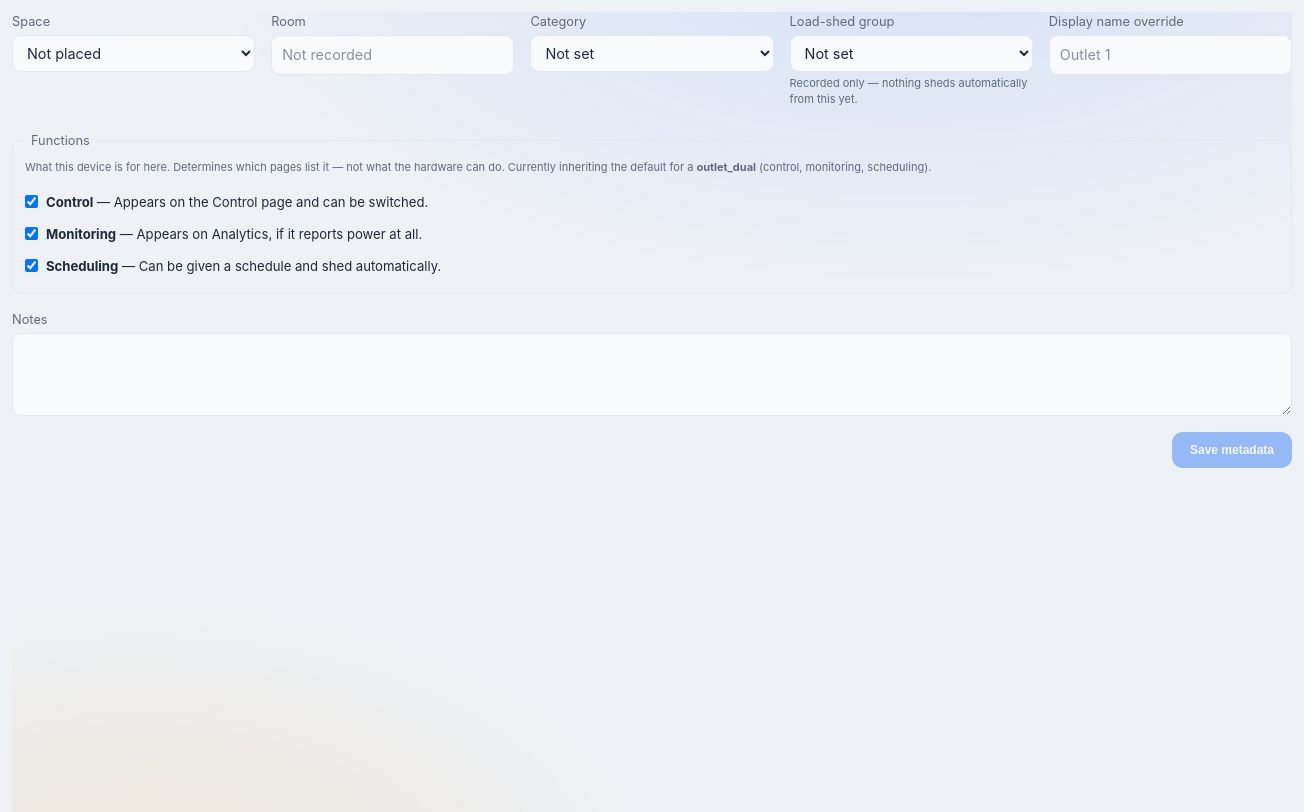
it: DeviceMetaEditor › space placement › staging a placement enables Save
Select "NBERIC / CARE Office" in the dropdown labelled "Space": point(134, 54) [12,35,255,72]
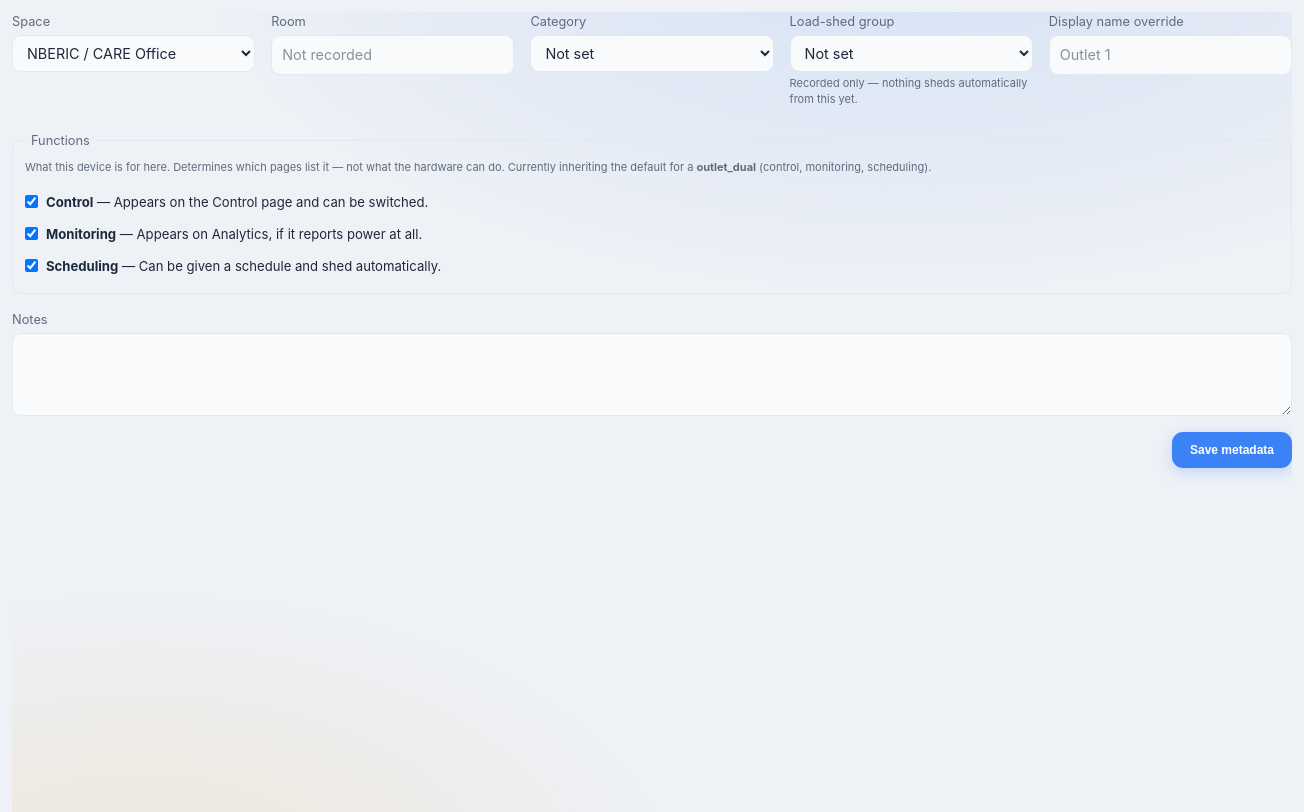
Expected: the button "Save metadata" is enabled, [1172,432,1292,468]
